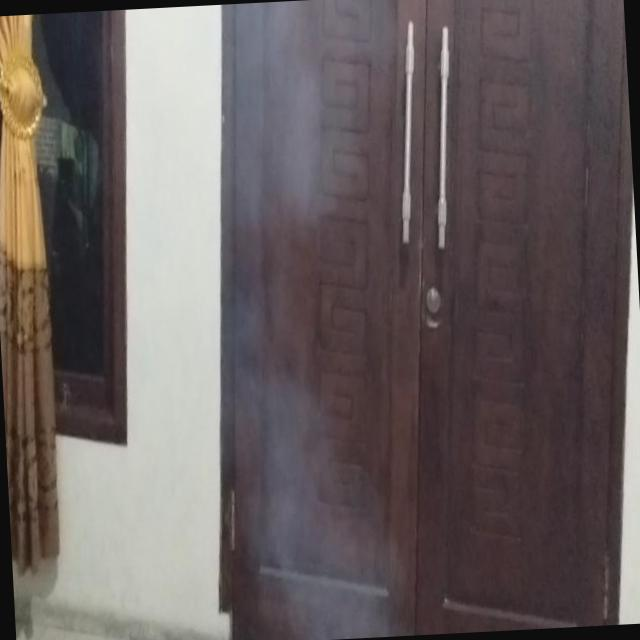smoke: (182, 29, 377, 640)
